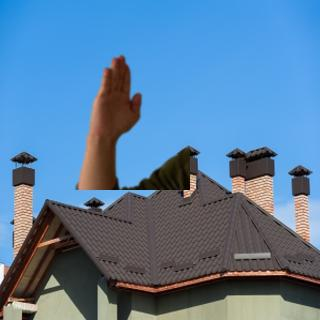RIGHT: (90, 50, 146, 149)
